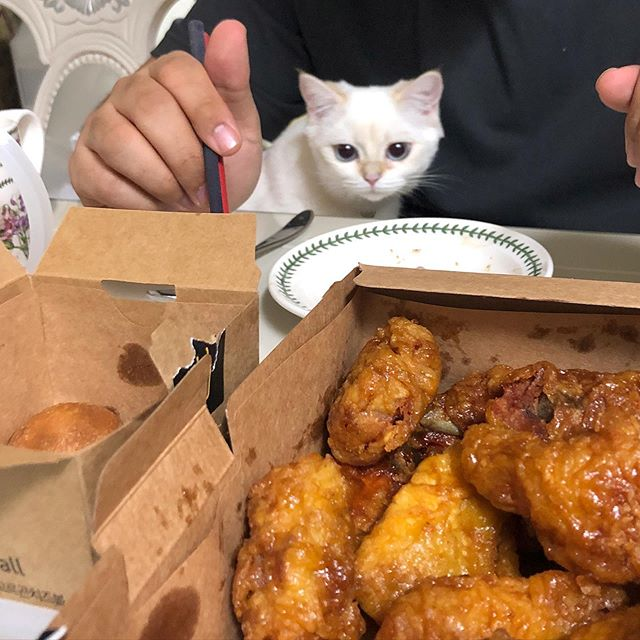cat: (291, 63, 450, 212)
